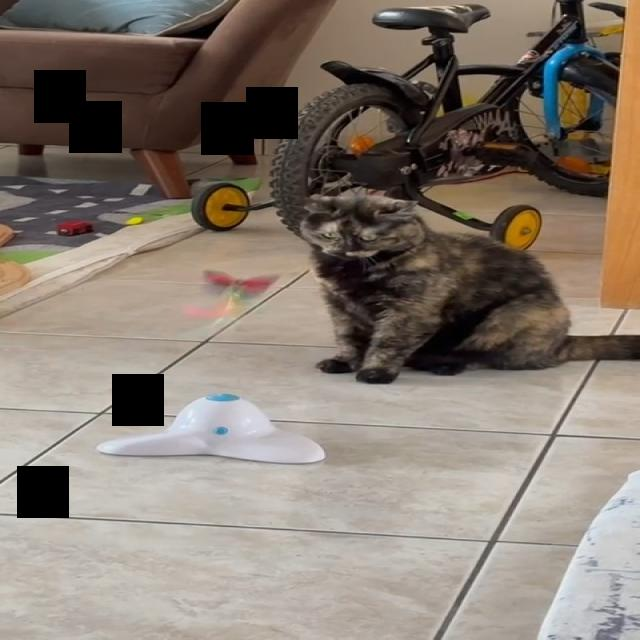authorized: (296, 192, 639, 384)
